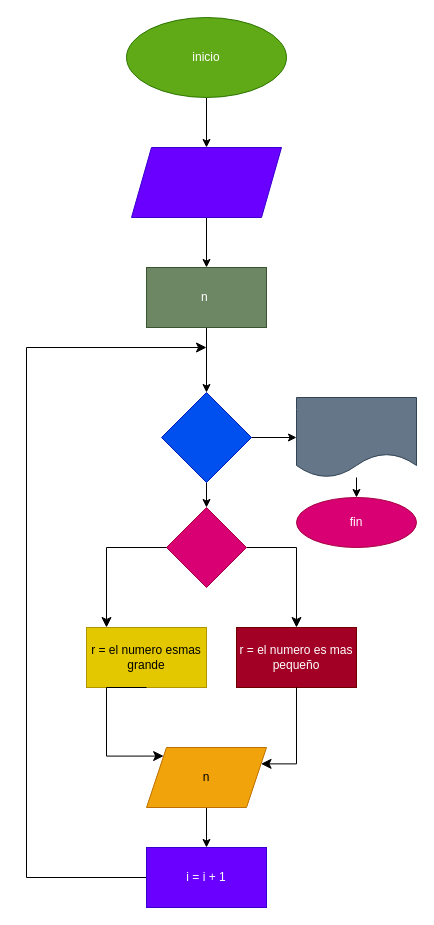
Some shapes in this 434 by 925 pixel diagram are drawn without their labels. The centre of each missing label's shape, as x and y in pixels:
"maquina = (1, 100)" belongs at point (206, 182).
"n = maquina" belongs at point (206, 437).
"n>z" belongs at point (206, 547).
"r = acertaste" belongs at point (356, 437).
